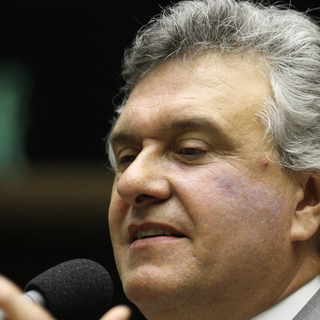eye: (168, 140, 216, 165)
